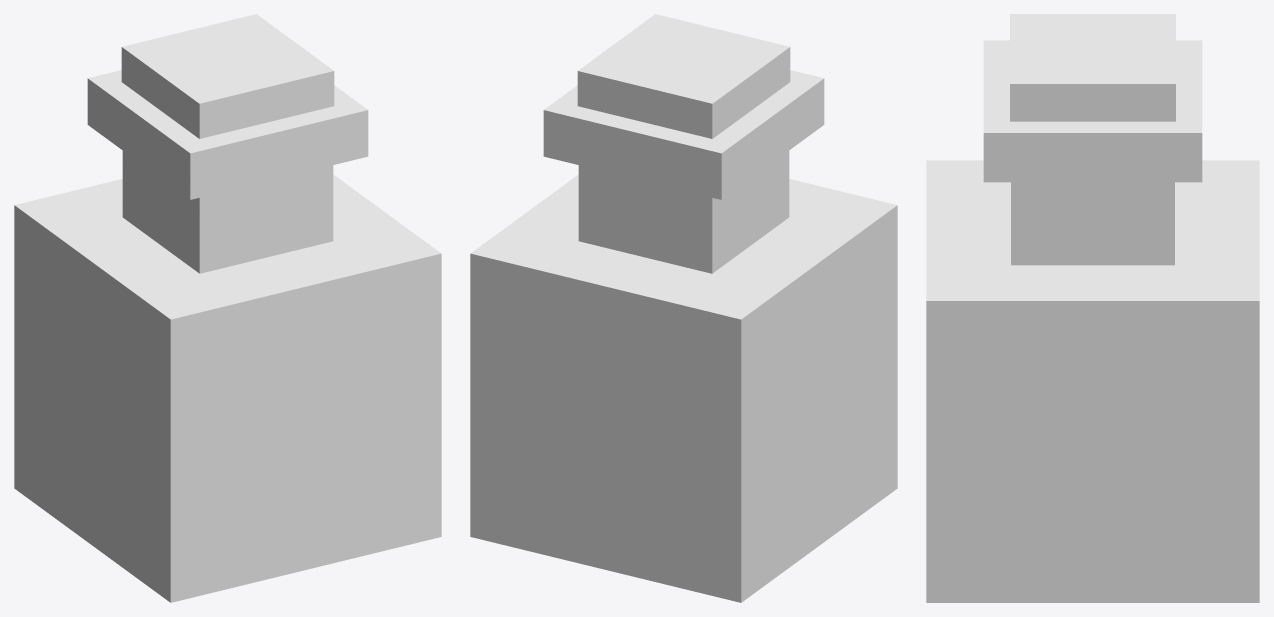
The model's file is SM_Potion_Square.glb.
The picture shows the model from 3 angles, left to right: view 1: azimuth 30°, elevation 25°; view 2: azimuth 150°, elevation 25°; view 3: azimuth 270°, elevation 25°; orthographic projection. The views are drawn at different scales.
Visible parts, largest first — view 1: SM_Potion_Square.001; view 2: SM_Potion_Square.001; view 3: SM_Potion_Square.001.
Boxes of the visible parts, box(x1,y1,x2,y2) form: SM_Potion_Square.001: box(14, 14, 441, 602); SM_Potion_Square.001: box(470, 14, 897, 602); SM_Potion_Square.001: box(926, 14, 1259, 602).
Bounding box in the file's own units: 76.1 × 122 × 76.1.
1 material, 1 textured.
